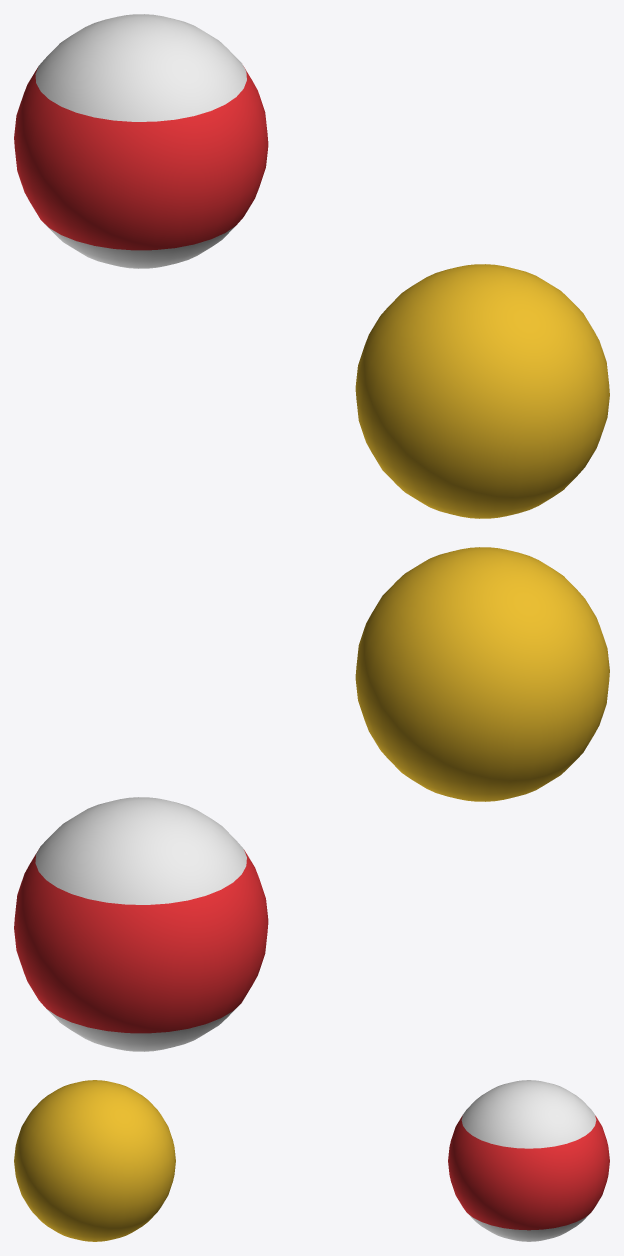
File: billiard-balls.glb
3 views of the same model, one above another, from view 1: azimuth 30°, elevation 25°; view 2: azimuth 150°, elevation 25°; view 3: azimuth 270°, elevation 25° (orthographic). The views are drawn at different scales.
Visible parts, largest first — view 1: solid, half; view 2: solid, half; view 3: solid, half.
Part boxes in pixels (x1,y1,x2,y2): solid: (355,264,609,518); half: (14,14,268,268); solid: (355,547,609,801); half: (14,797,268,1051); solid: (14,1080,175,1241); half: (448,1080,609,1241).
Size of the model in its own units: 0.056 by 0.056 by 0.206.
